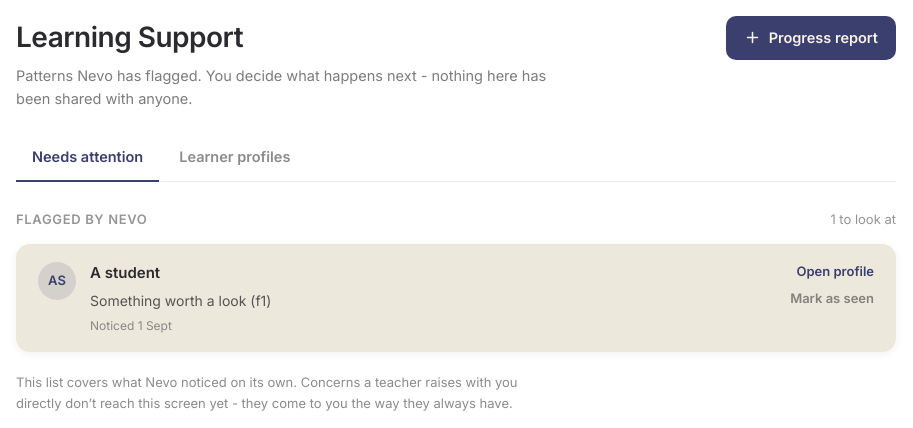
it: SencoView mark as seen › does not claim the queue is empty before the server answers
Click the button "Mark as seen". click: (832, 299)
box: [790,289,874,309]
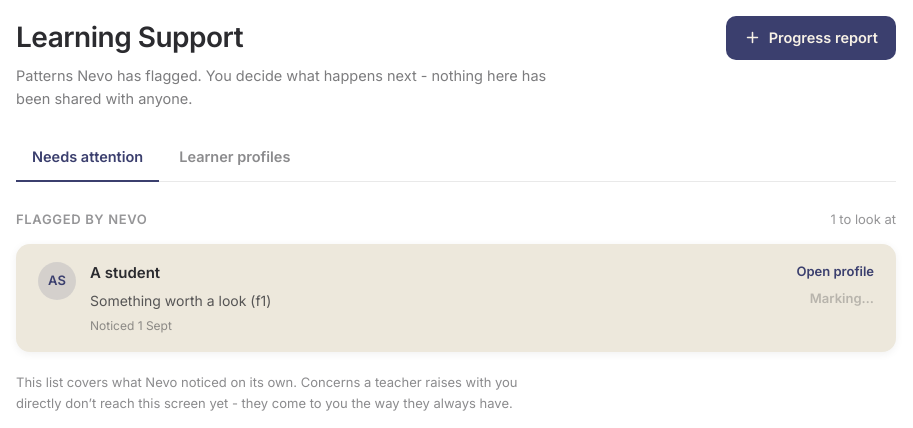
Now the button "Marking…" is disabled, box [810,289,874,309]
